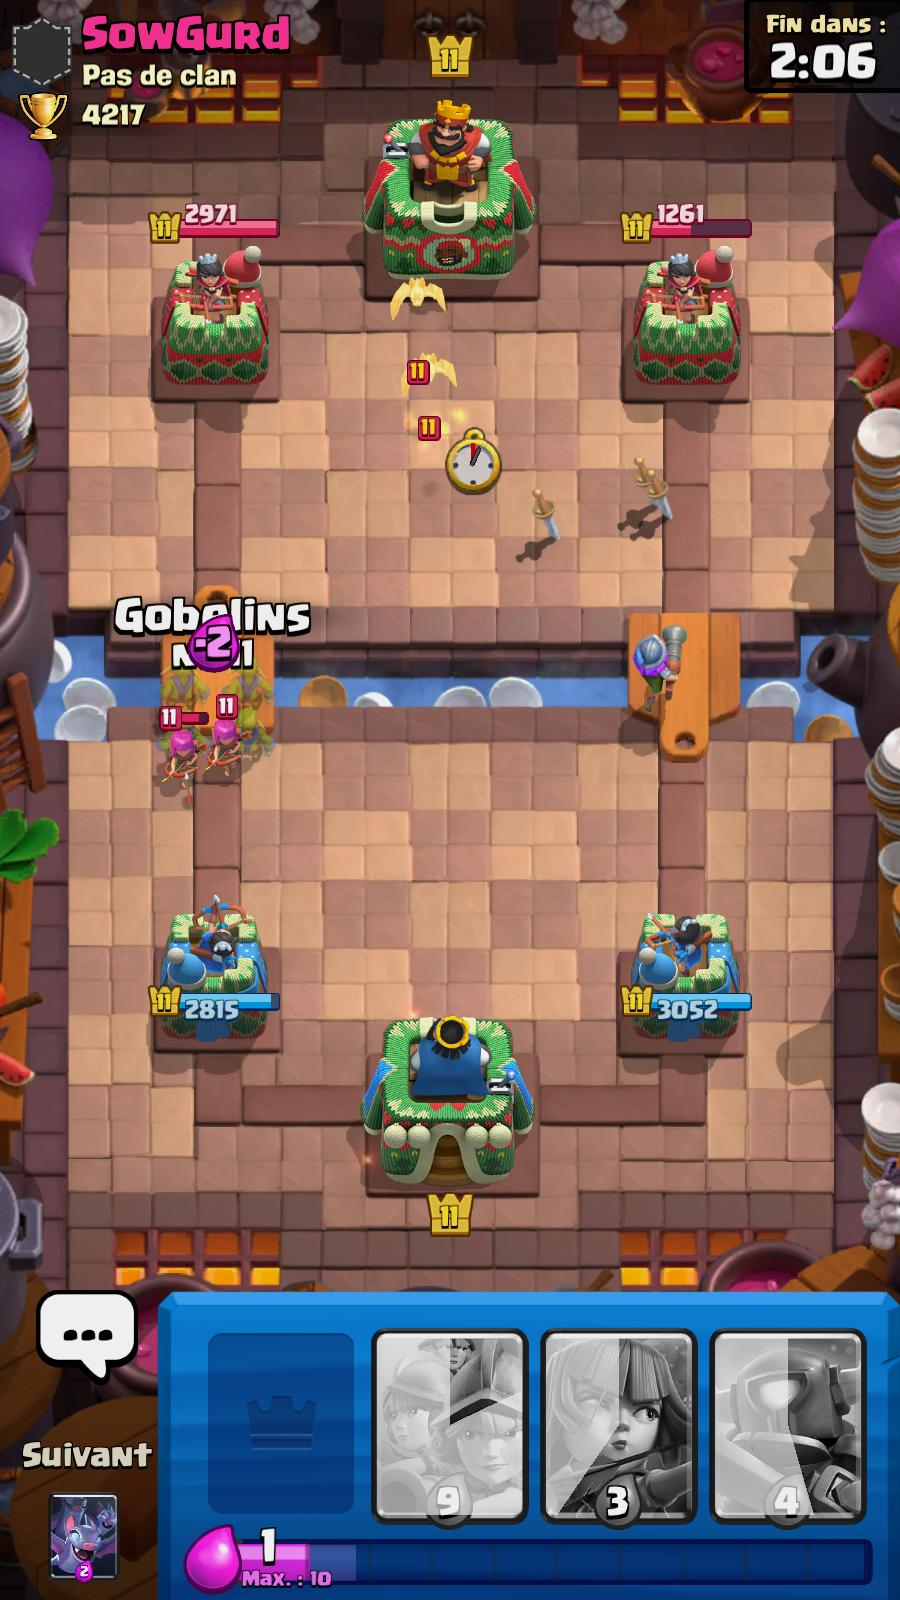archere: (156, 703, 201, 787), (210, 695, 246, 785)
bat: (395, 354, 463, 392), (386, 276, 446, 318)
mousquetaire: (627, 623, 686, 703)
